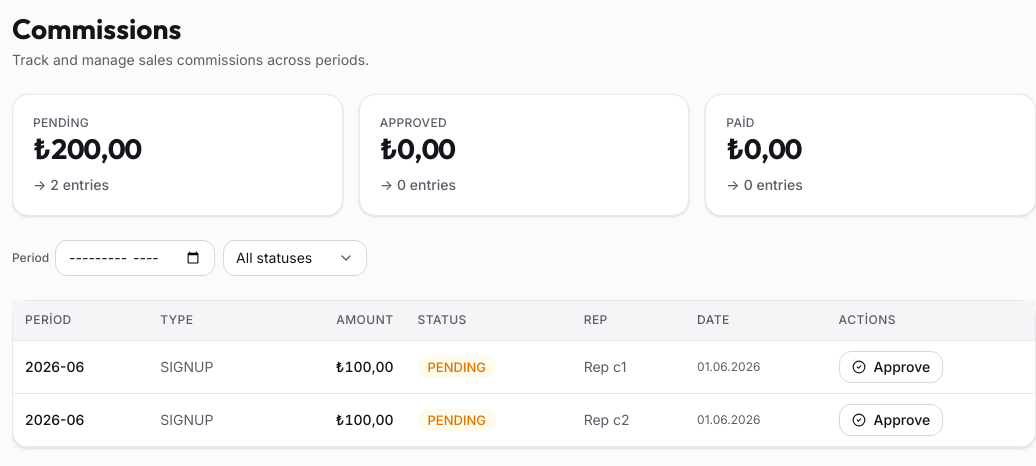
Test: CommissionsPage — per-commission action loading › approving one commission does not disable another commission's Approve button
What coordinates should you click on to do the following:
click the button "Approve" in the row of "Rep c1"
I would click on:
 (891, 367)
Its box is [839, 351, 943, 383].
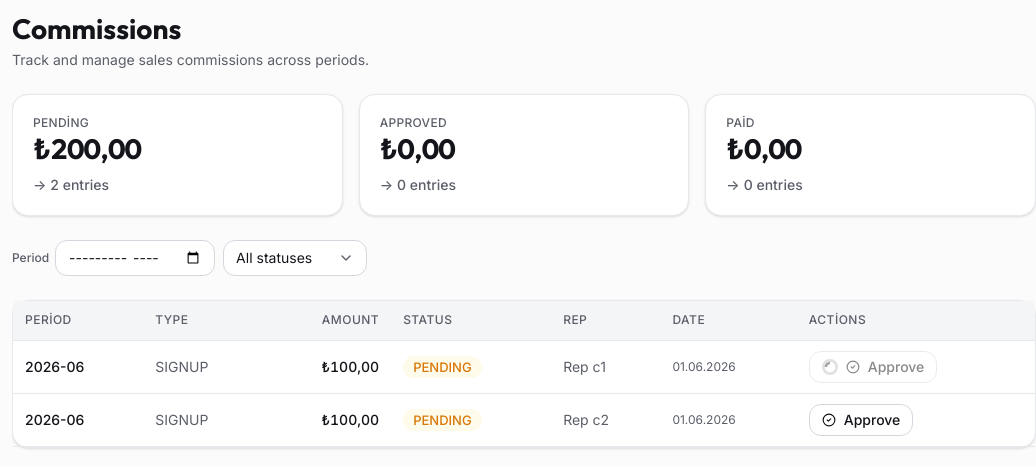
Expected: the button "Approve" in the row of "Rep c2" is enabled, [809, 404, 913, 436]
Now the button "Approve" in the row of "Rep c1" is disabled, box [809, 351, 937, 383]
